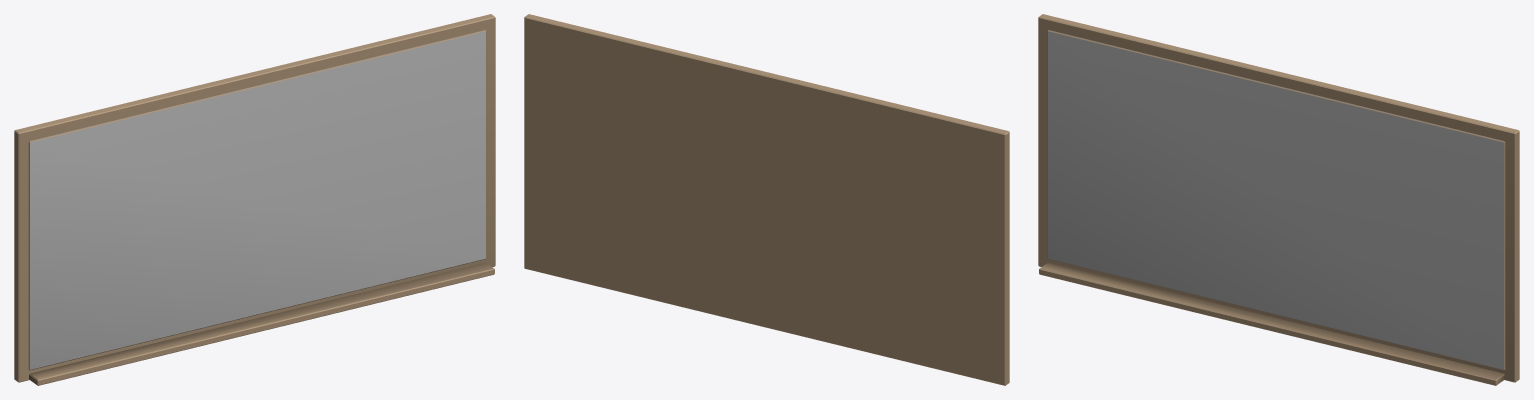
File: blackboard.glb
3 views of the same model, side by side, from view 1: azimuth 30°, elevation 25°; view 2: azimuth 150°, elevation 25°; view 3: azimuth 330°, elevation 25° (orthographic).
Visible parts, largest first — view 1: blackboard; view 2: blackboard; view 3: blackboard.
Part boxes in pixels (x1,y1,x2,y2): blackboard: (14, 14, 495, 385); blackboard: (524, 14, 1009, 385); blackboard: (1038, 14, 1519, 385).
Size of the model in its own units: 2.4 by 1.2 by 0.12.
